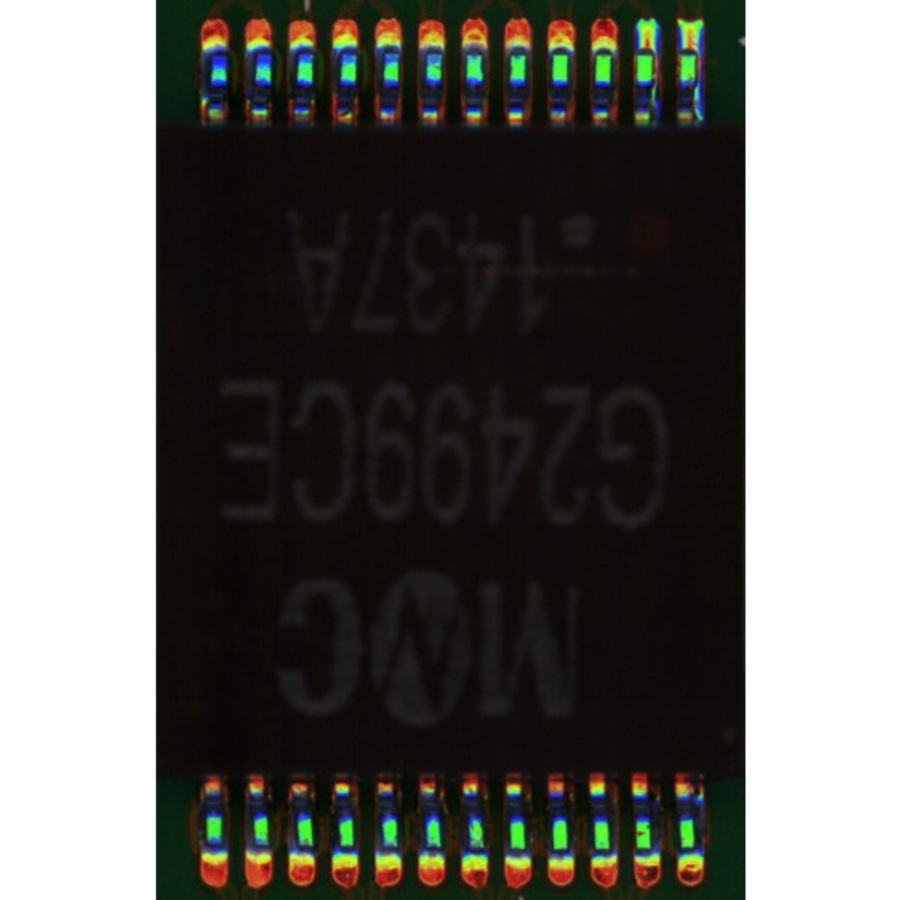Bad_qiaojiao: (694, 54, 703, 123), (653, 53, 659, 108)
